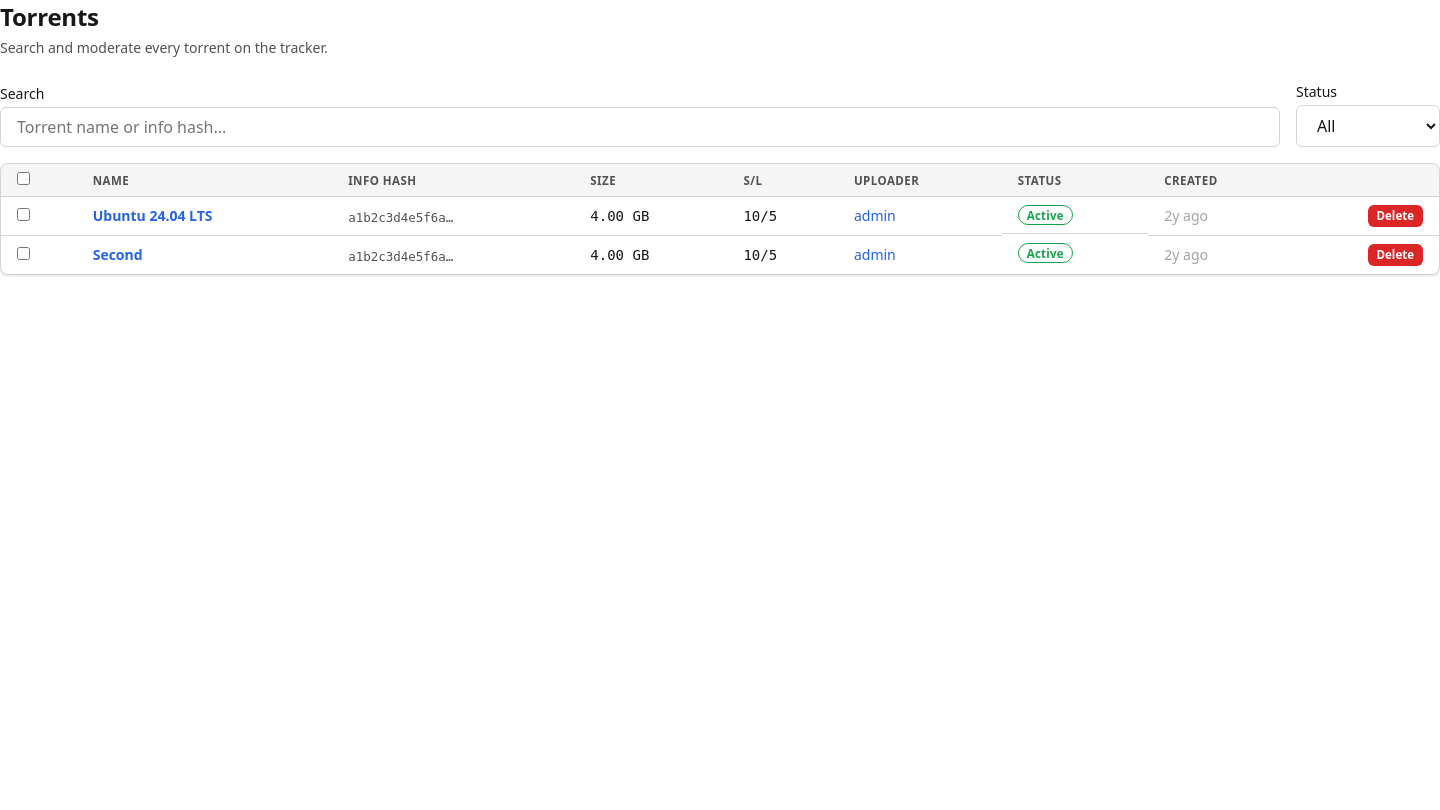
AdminTorrentsPage › reports why some torrents in a bulk action failed
This screenshot has width=1440, height=810.
Expected: the link "Second" is shown, [93,245,143,264]
Click the checkbox named "Select all on this page" at (24, 178), box [17,172,30,185]
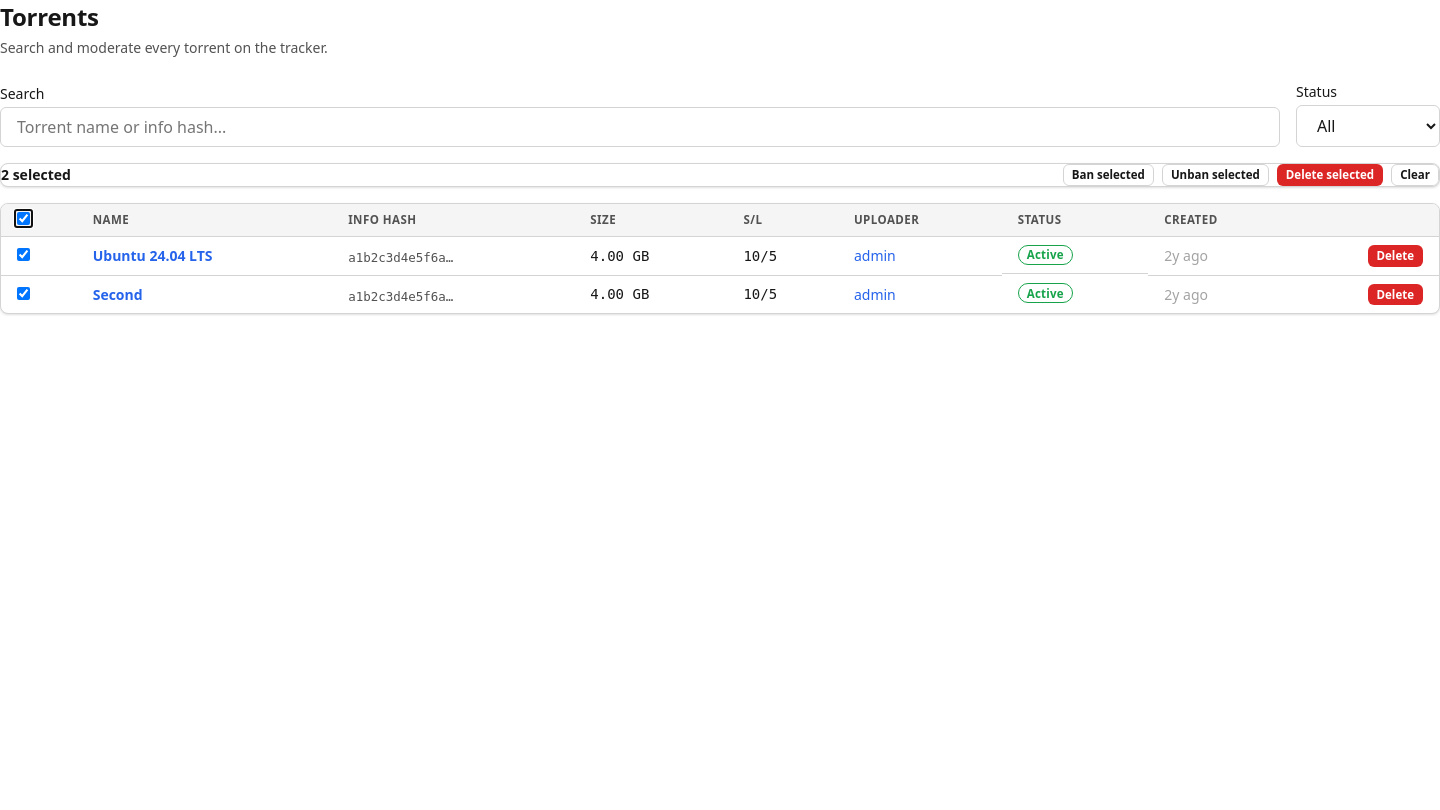
Click the button "Delete selected" at (1330, 175), box [1277,164,1383,186]
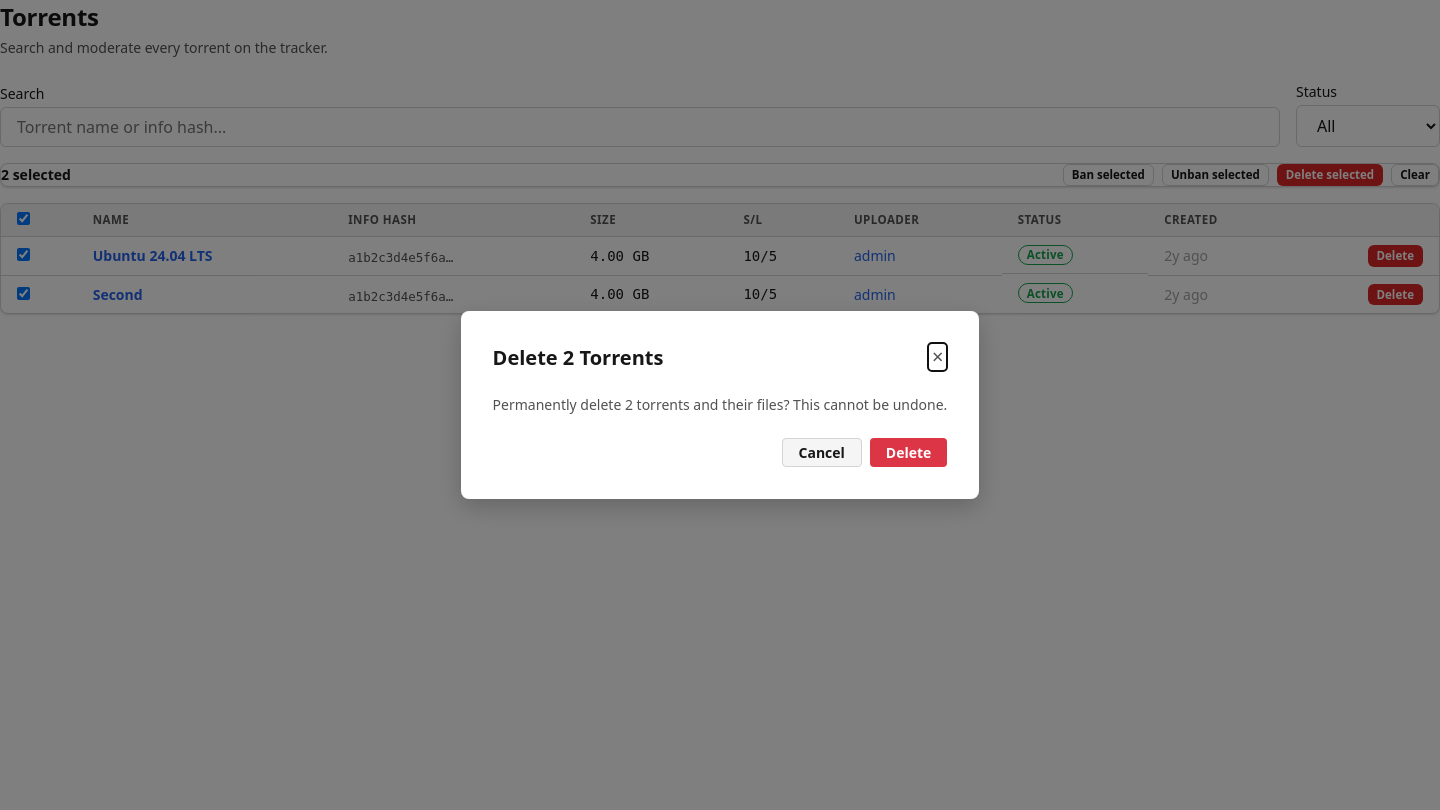
Click the button "Delete" at (909, 452), box [870,438,947,467]
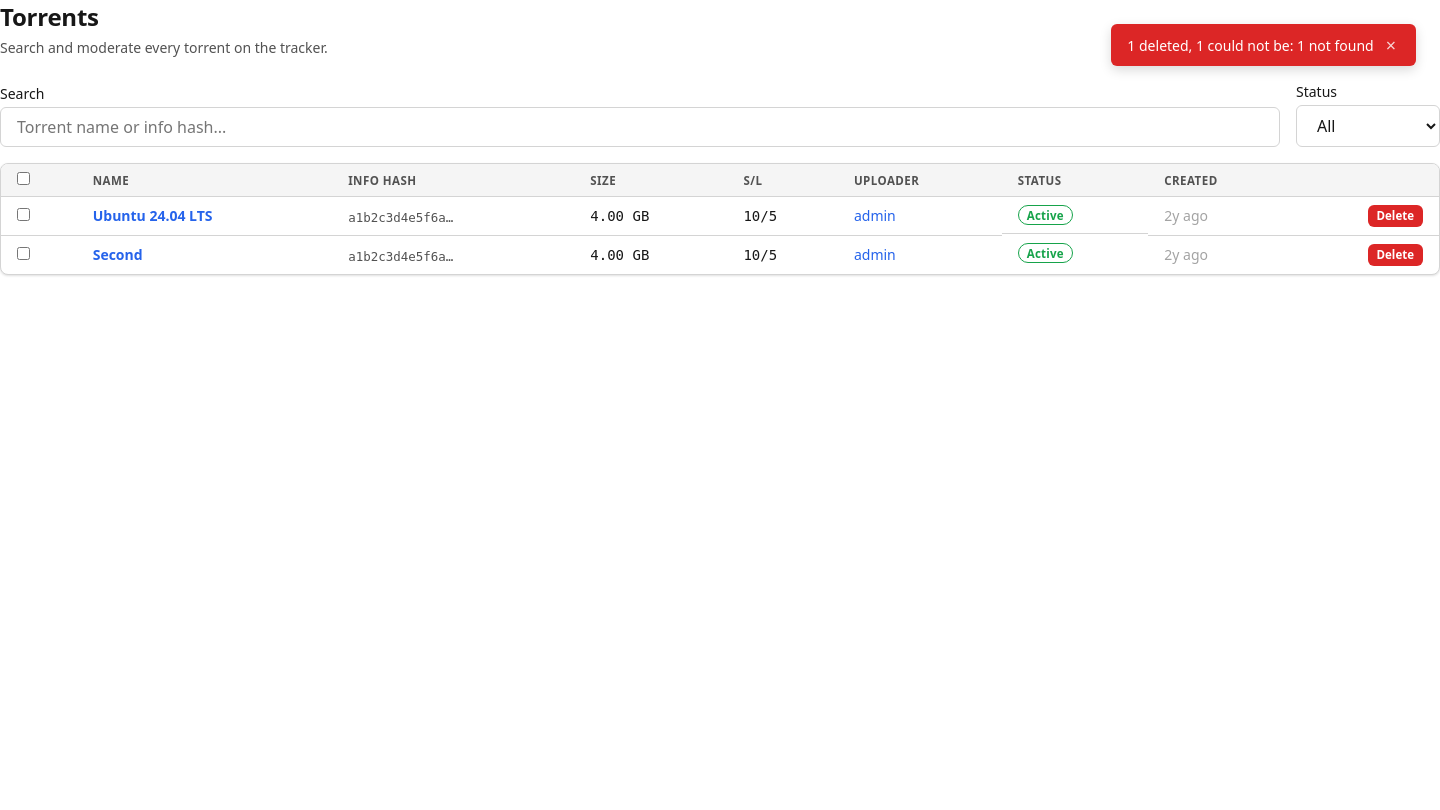
Expected: the text "1 deleted, 1 could not be: 1 not found" is shown, [1127,36,1374,54]
